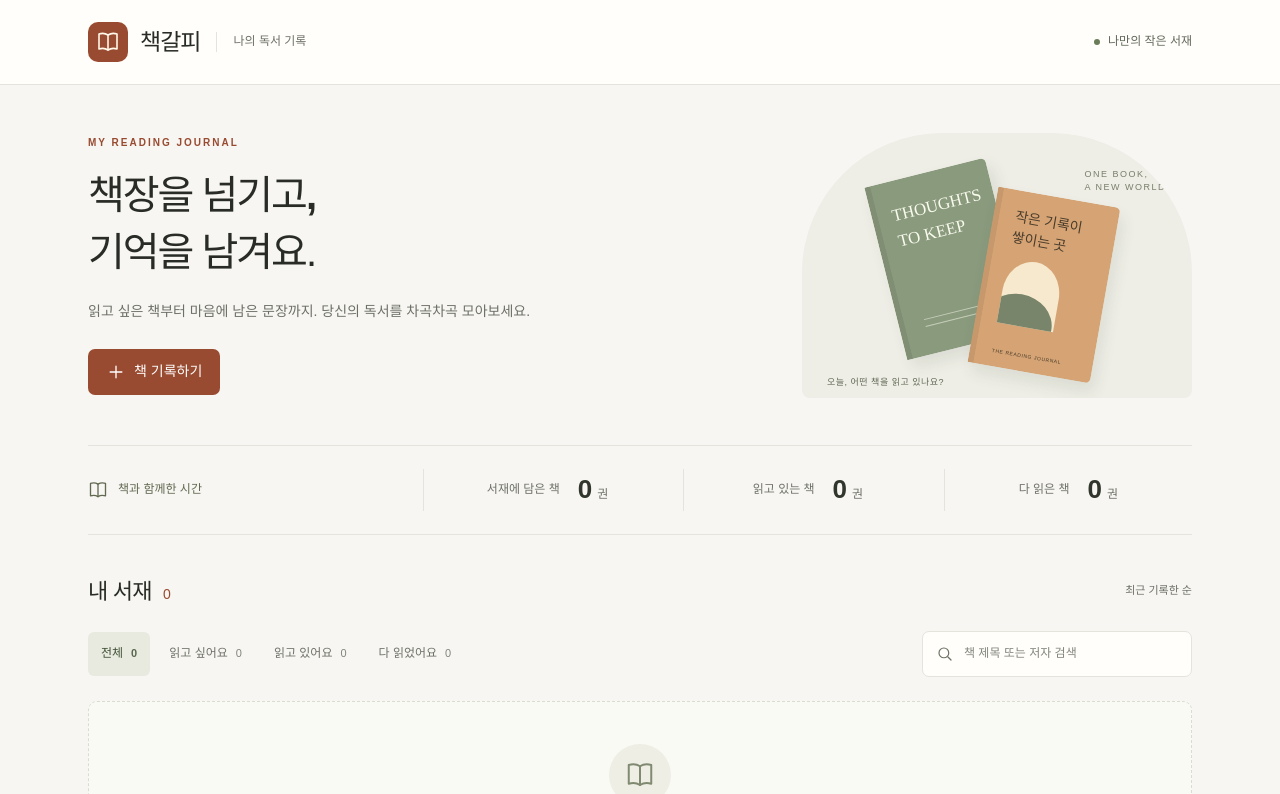
Test: 저장 실패 시 대화상자와 입력을 보존하고 복구 후 다시 저장한다
Click the button "책 기록하기". click: (154, 372)
box: [88,349,220,395]
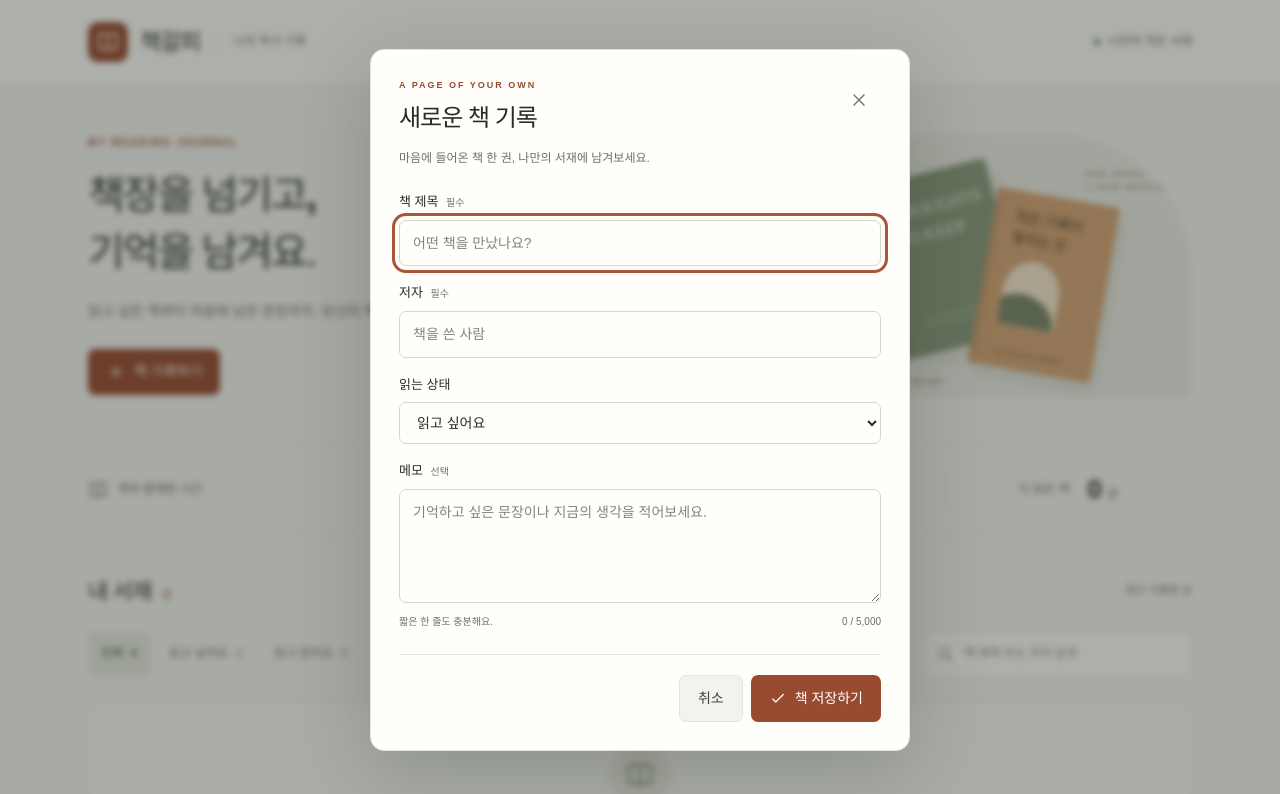
Type "소년이 온다" into the field labelled "책 제목 필수". click: (640, 243)
box: [399,220,881,266]
Type "한강" into the field labelled "저자 필수". click: (640, 334)
box: [399,311,881,358]
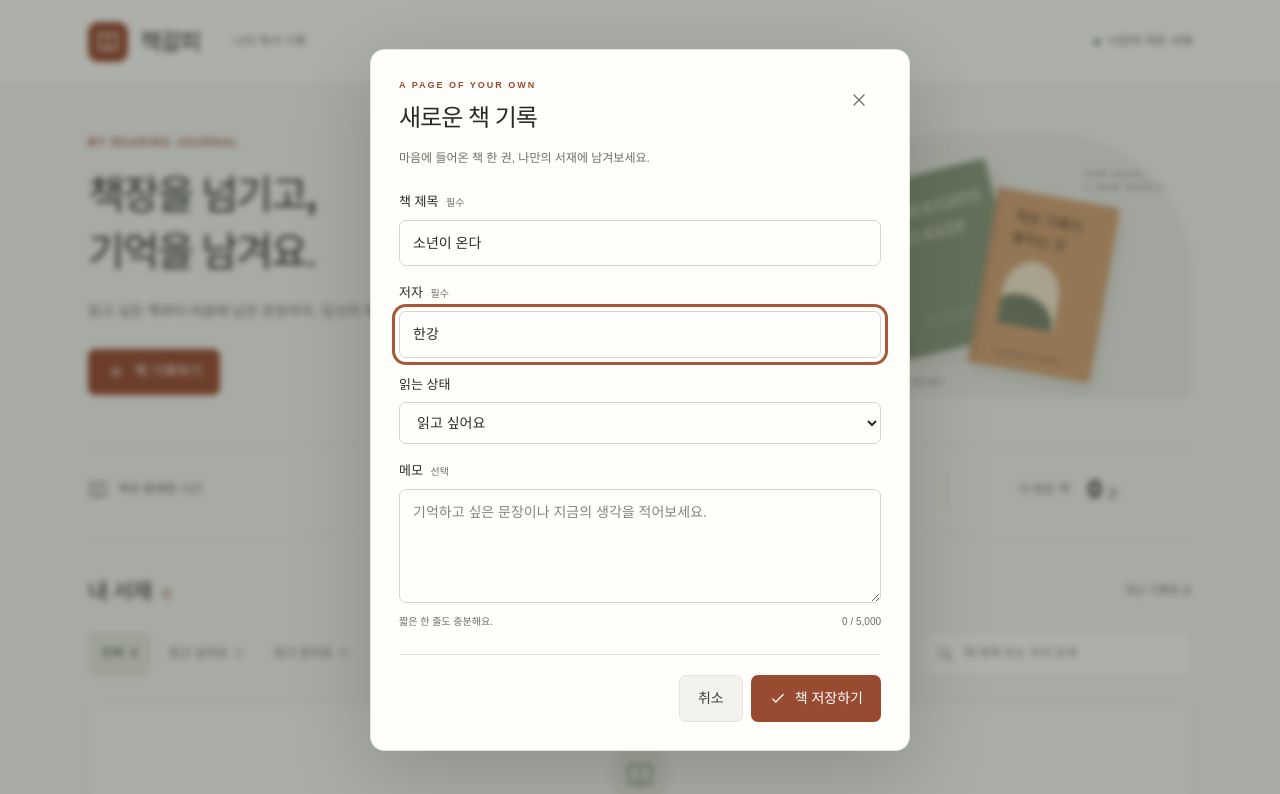
Select "읽고 있어요" in the dropdown labelled "읽는 상태". click: (640, 423)
box: [399,402,881,444]
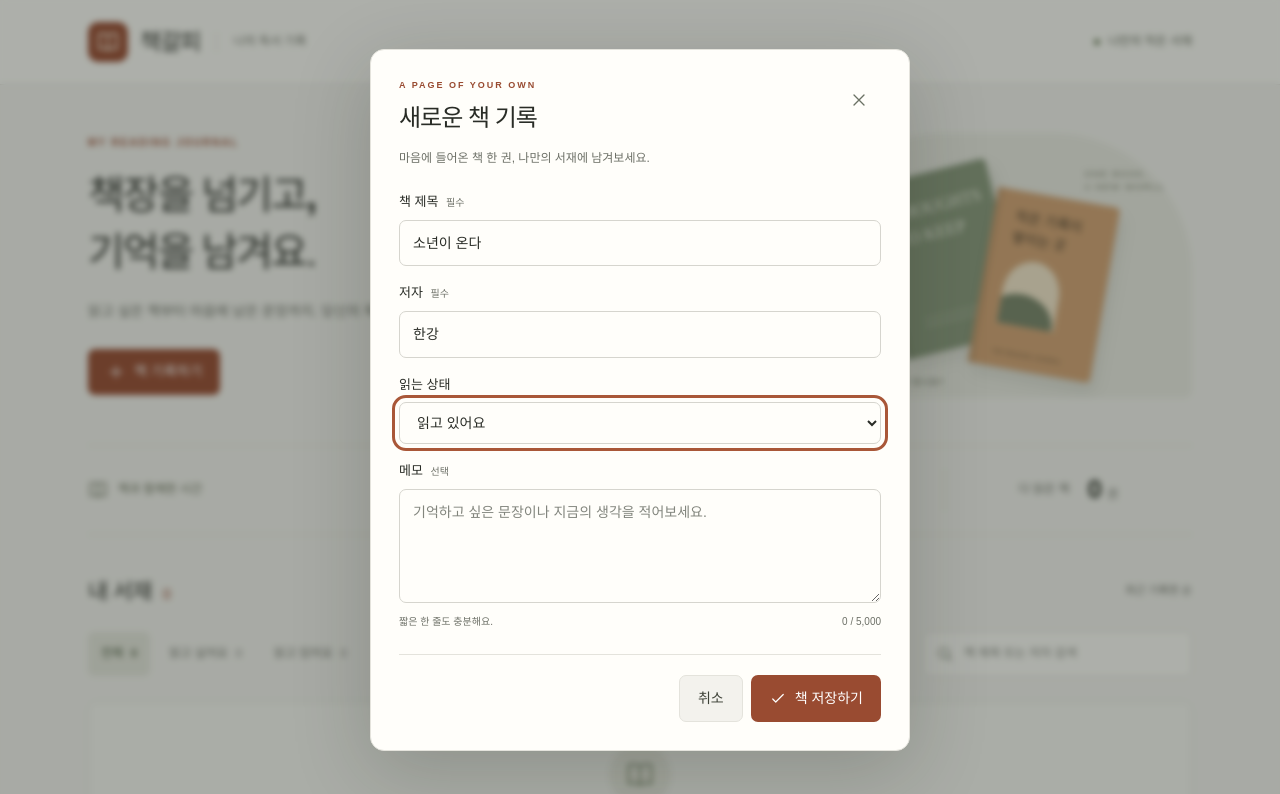
Type "오래 기억할 문장" into the text box labelled "메모 선택". click: (640, 546)
box: [399,489,881,603]
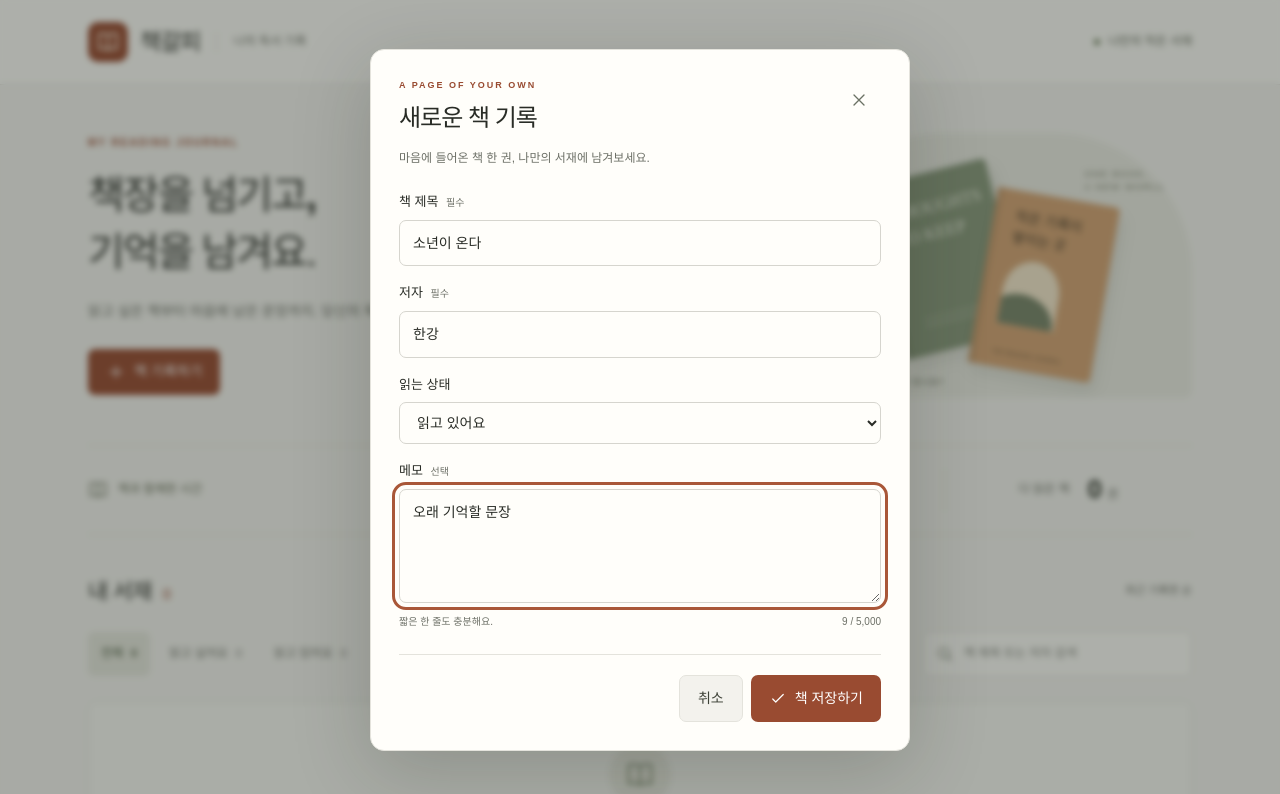
Click the button "책 저장하기". click: (816, 698)
box: [751,675,881,722]
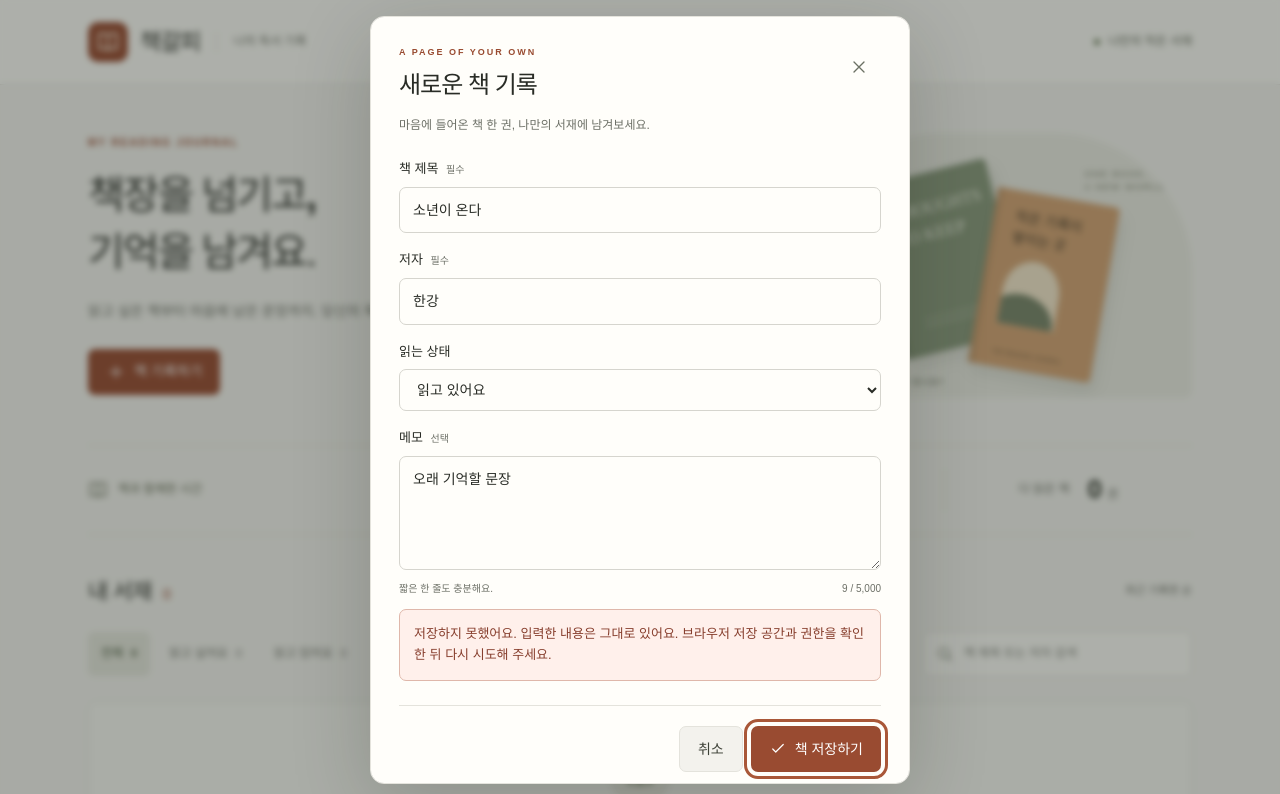
Result: the message shows "저장하지 못했어요" at [414,626,864,662]
Click the button "책 저장하기". click: (816, 749)
box: [751,726,881,772]
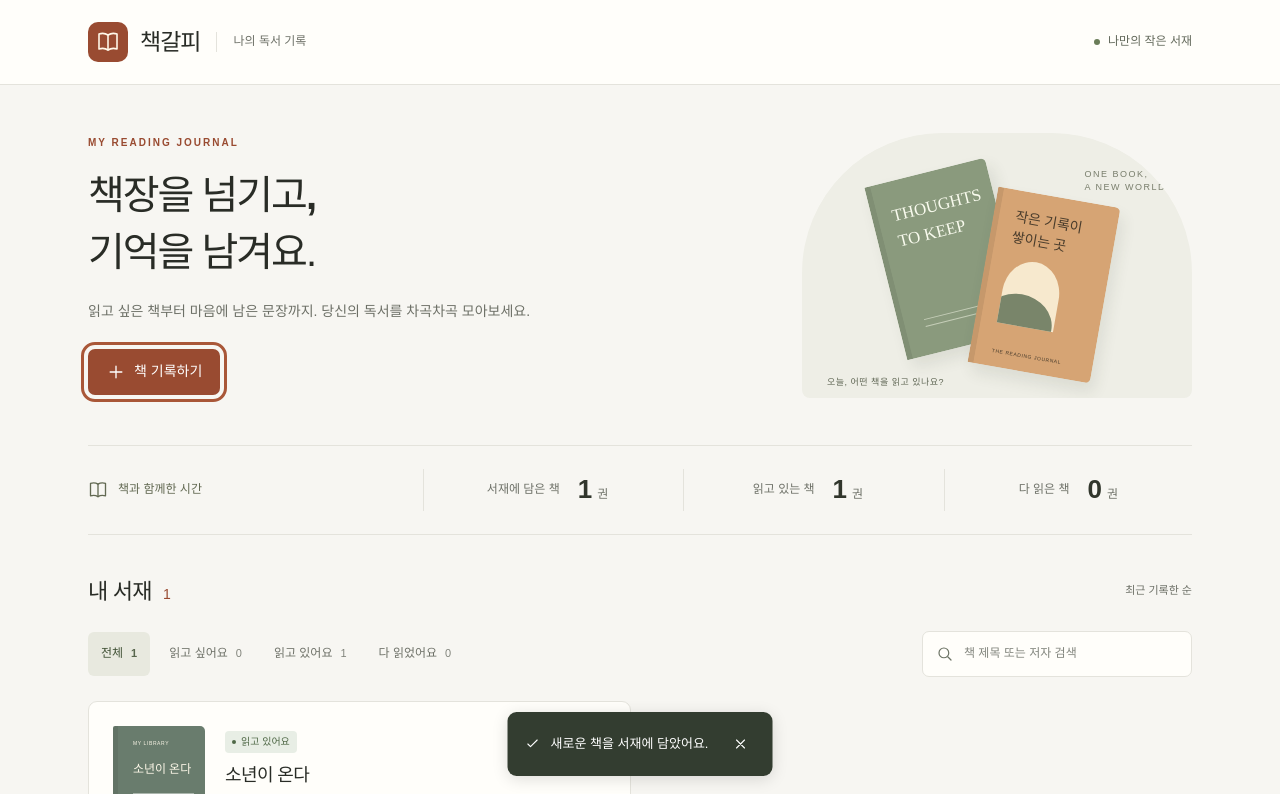
Result: the heading "소년이 온다" is shown at [225,765,309,785]
Result: the dialog is gone
